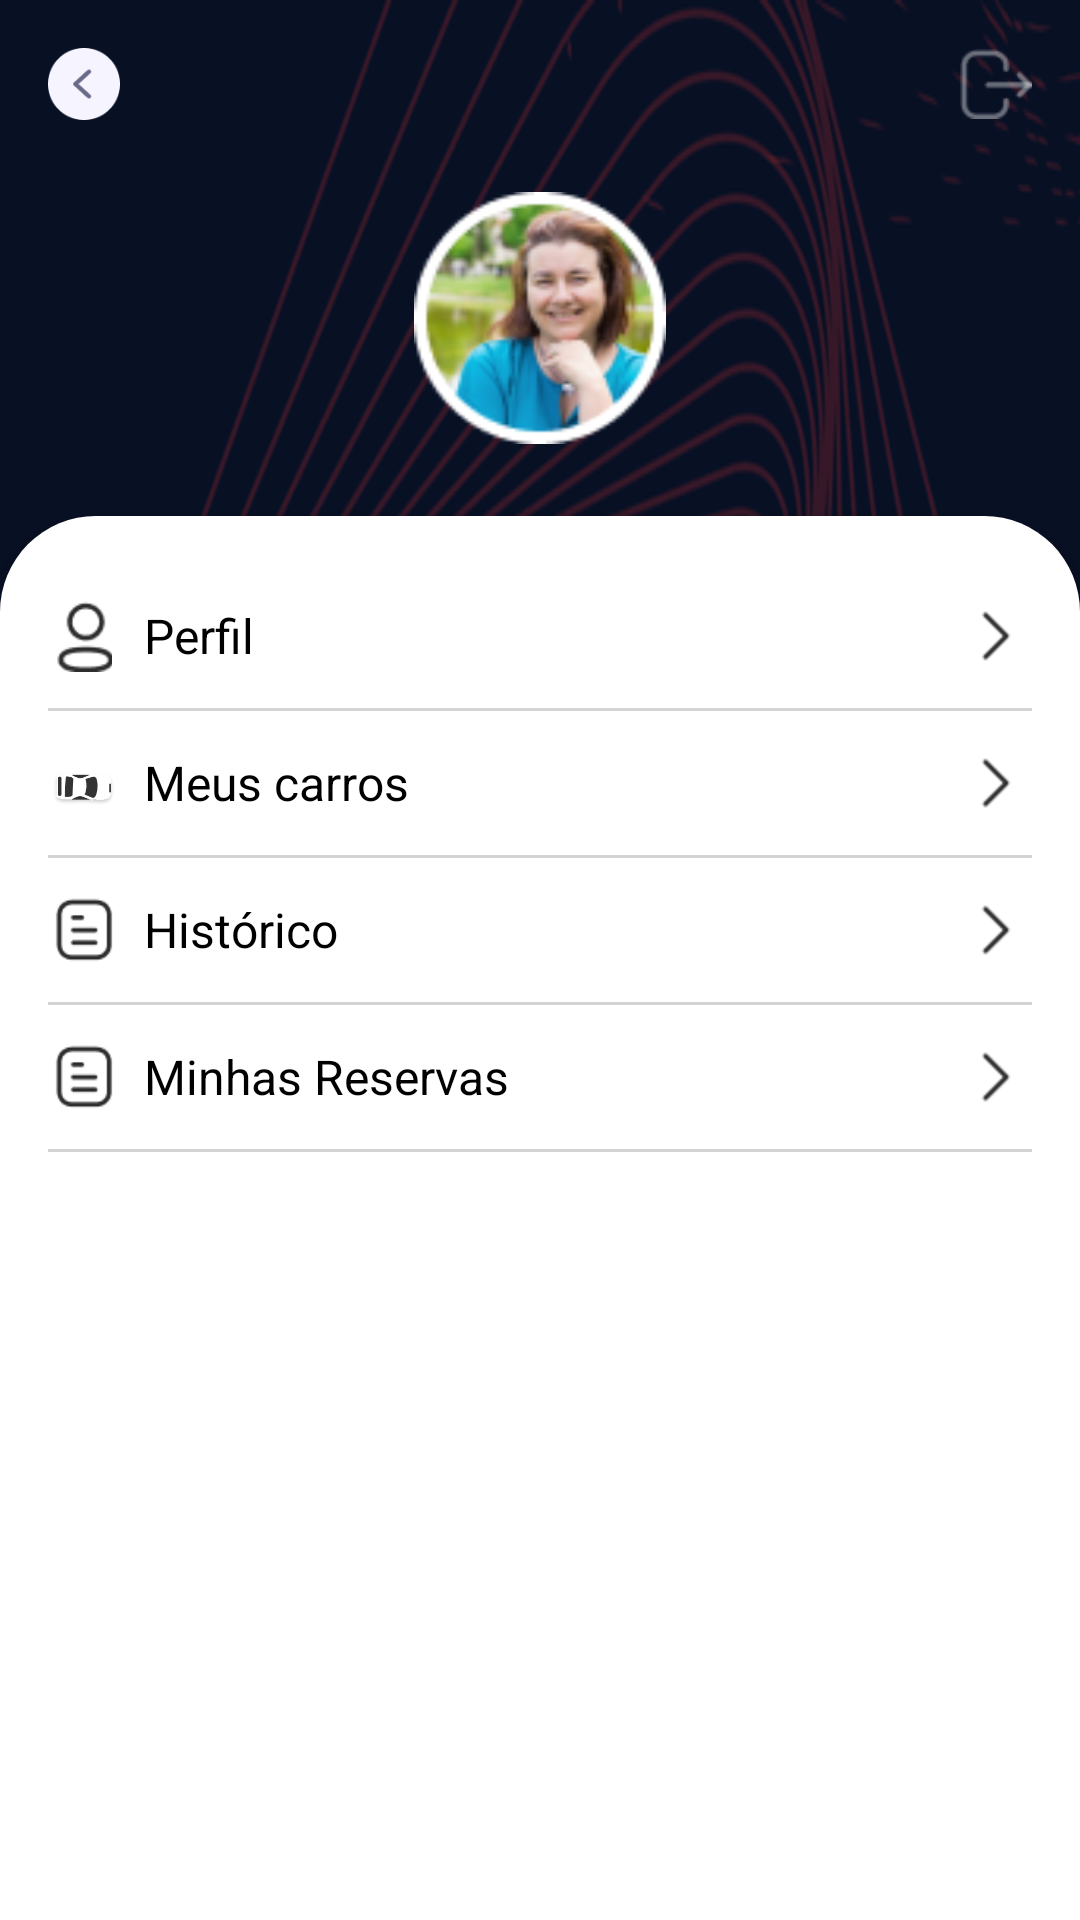

Named icons in this screenshot (1080px×1920px) and their bounding boxes, Rect(x1, y1, x2, y2):
Back: Rect(48, 48, 120, 120)
Sair: Rect(960, 48, 1032, 119)
